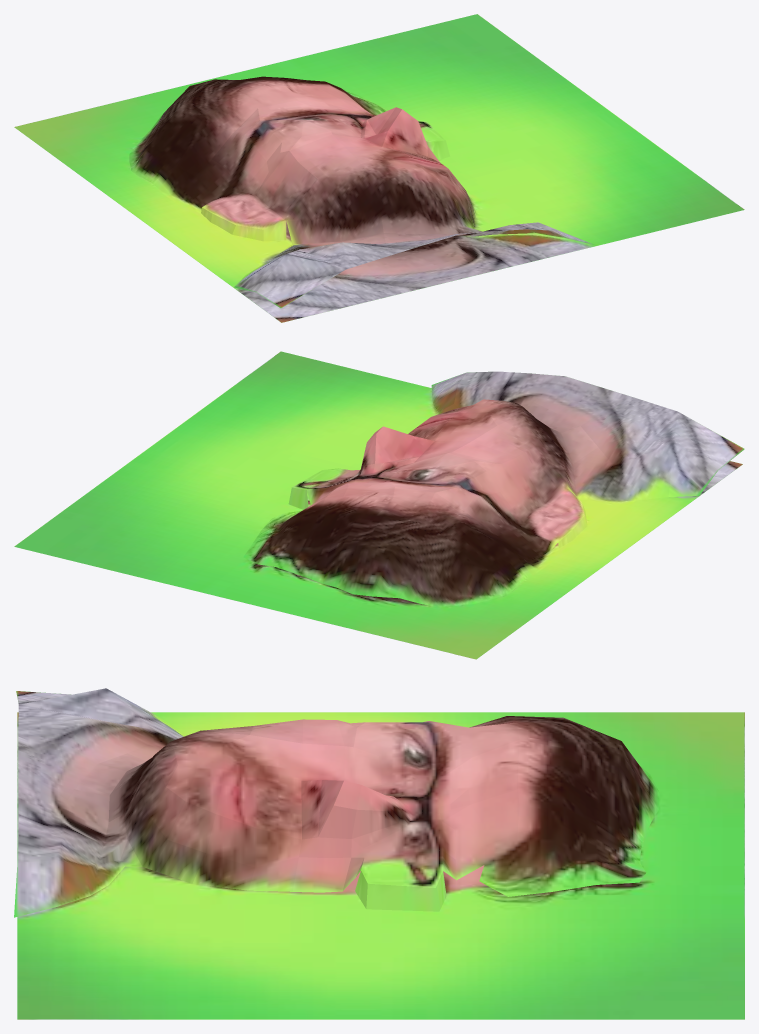
The model's file is avatar256.gltf.
The picture shows the model from 3 angles, top to bottom: view 1: azimuth 30°, elevation 25°; view 2: azimuth 150°, elevation 25°; view 3: azimuth 270°, elevation 25°; orthographic projection. The views are drawn at different scales.
Visible parts, largest first — view 1: face; view 2: face; view 3: face.
Boxes of the visible parts, box(x1,y1,x2,y2) form: face: box(14, 14, 744, 322); face: box(14, 351, 744, 659); face: box(14, 688, 744, 1019).
Bounding box in the file's own units: 5.02 × 0.7595 × 5.02.
1 material, 1 textured.
